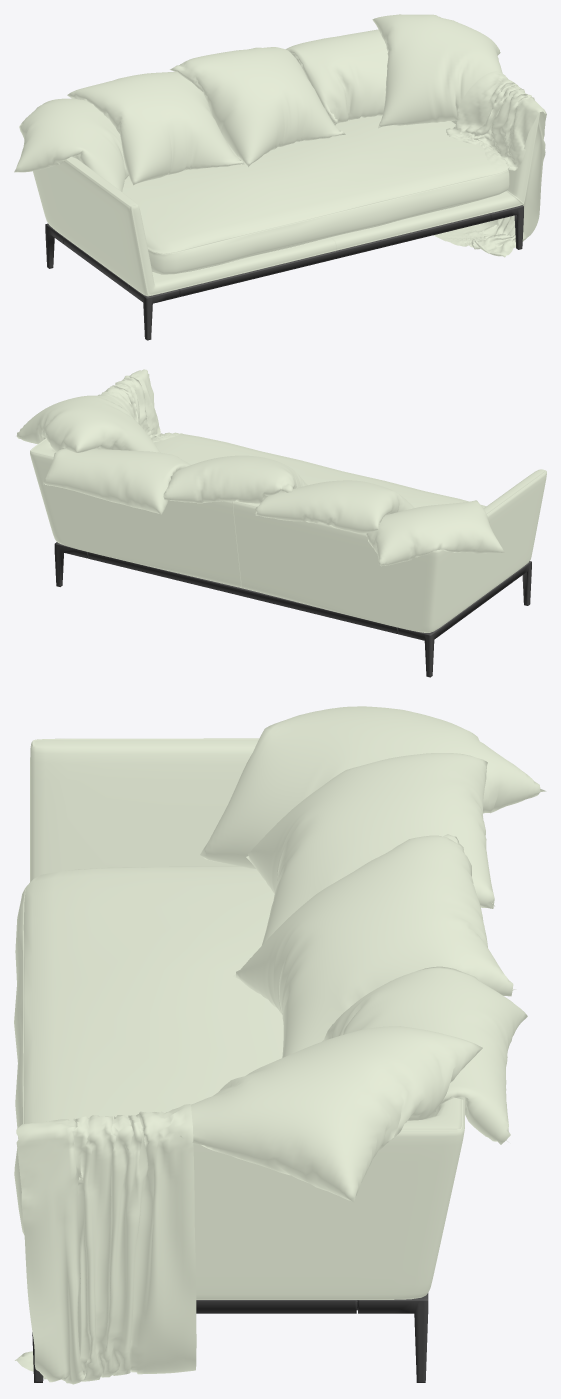
Rendered from sofa.gltf.
3 renders of one model, top to bottom at view 1: azimuth 30°, elevation 25°; view 2: azimuth 150°, elevation 25°; view 3: azimuth 270°, elevation 25°, orthographic. The views are drawn at different scales.
Parts seen in each view (by area): view 1: Cube.003, Cube.001, Grid.002, Grid.001, Grid.004, Plane.001, Grid.003, Grid, Cube.002; view 2: Cube.001, Grid.003, Grid, Grid.004, Grid.001, Grid.002, Cube.002, Cube.003, Plane.001; view 3: Cube.001, Cube.003, Plane.001, Grid.002, Grid.004, Grid.001, Grid, Grid.003, Cube.002.
Part boxes in pixels (x1,y1,x2,y2): Cube.003: [122, 115, 509, 274]; Cube.001: [33, 112, 539, 296]; Grid.002: [170, 47, 345, 166]; Grid.001: [67, 71, 244, 185]; Grid.004: [372, 14, 504, 128]; Plane.001: [434, 71, 546, 257]; Grid.003: [285, 29, 388, 125]; Grid: [14, 98, 128, 191]; Cube.002: [45, 205, 523, 340]; Cube.001: [30, 438, 546, 632]; Grid.003: [43, 449, 190, 514]; Grid: [366, 500, 504, 566]; Grid.004: [16, 395, 160, 452]; Grid.001: [255, 480, 414, 533]; Grid.002: [163, 455, 307, 503]; Cube.002: [54, 542, 531, 677]; Cube.003: [154, 434, 486, 508]; Plane.001: [98, 369, 182, 442]; Cube.001: [30, 738, 464, 1299]; Cube.003: [14, 866, 283, 1234]; Plane.001: [15, 1104, 196, 1384]; Grid.002: [233, 834, 515, 1057]; Grid.004: [162, 1026, 482, 1202]; Grid.001: [246, 753, 494, 944]; Grid: [200, 706, 546, 868]; Grid.003: [322, 966, 527, 1144]; Cube.002: [32, 1293, 428, 1382].
Size of the model in its own units: 2.42 by 0.7991 by 1.17.
